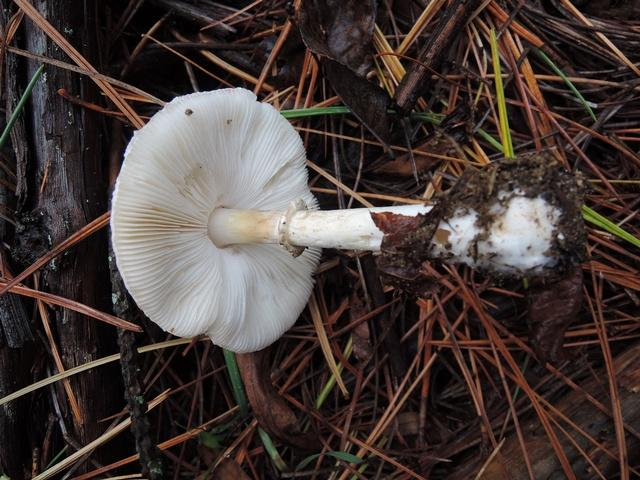poisonous_mushroom: (108, 85, 567, 367)
